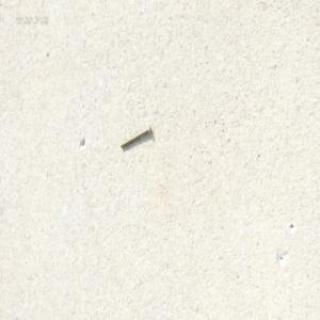Bolttrack_idkeyframe: (118, 123, 151, 149)
